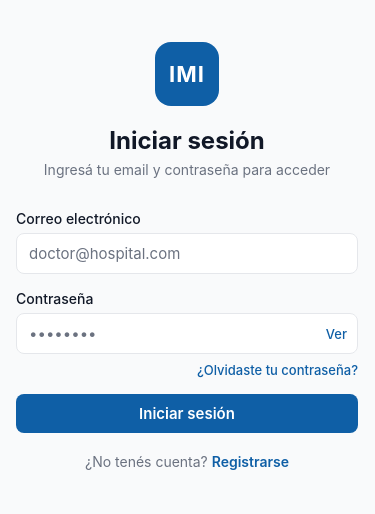
Test: LoginScreen › shows supabase error on failed login
The width and height of the screenshot is (375, 514).
In the field with placeholder "doctor@hospital.com": [187, 254] box [17, 234, 357, 273], type "doc@h.com"
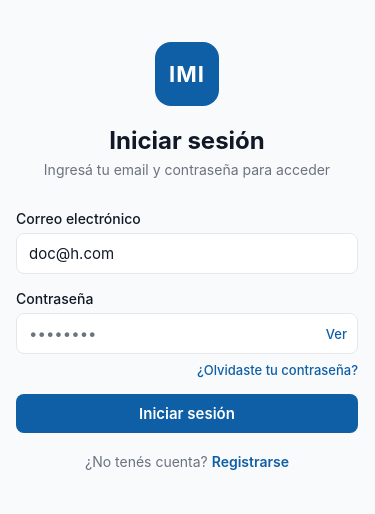
In the password field with placeholder "••••••••": [171, 334] box [17, 314, 326, 353], type "password"
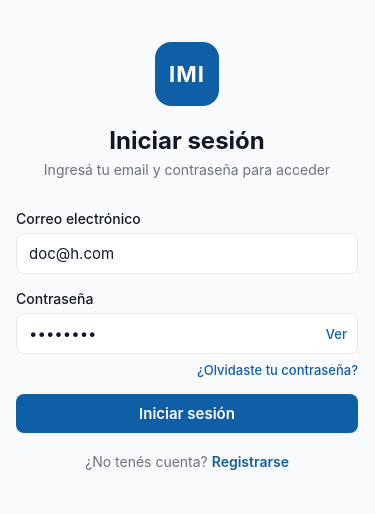
Click the text "Iniciar sesión" below "¿Olvidaste tu contraseña?": [187, 414] box [139, 404, 235, 423]
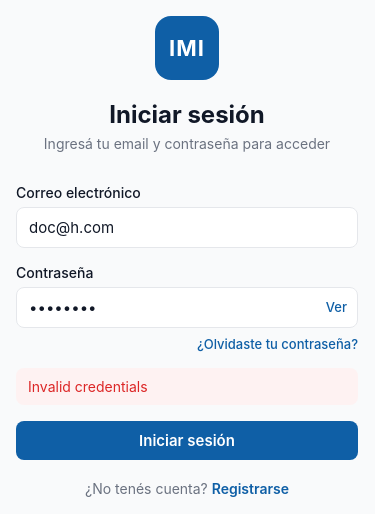
Result: the text "Invalid credentials" is shown at [28, 378, 148, 394]
